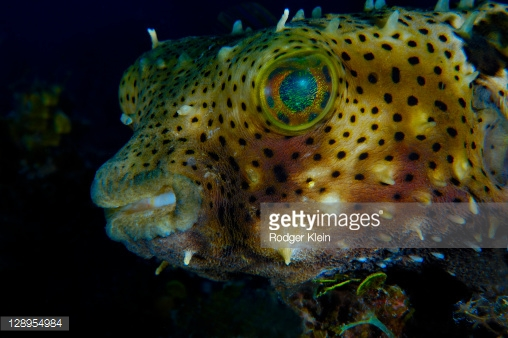Diodon_holocanthus: (71, 4, 504, 279)
